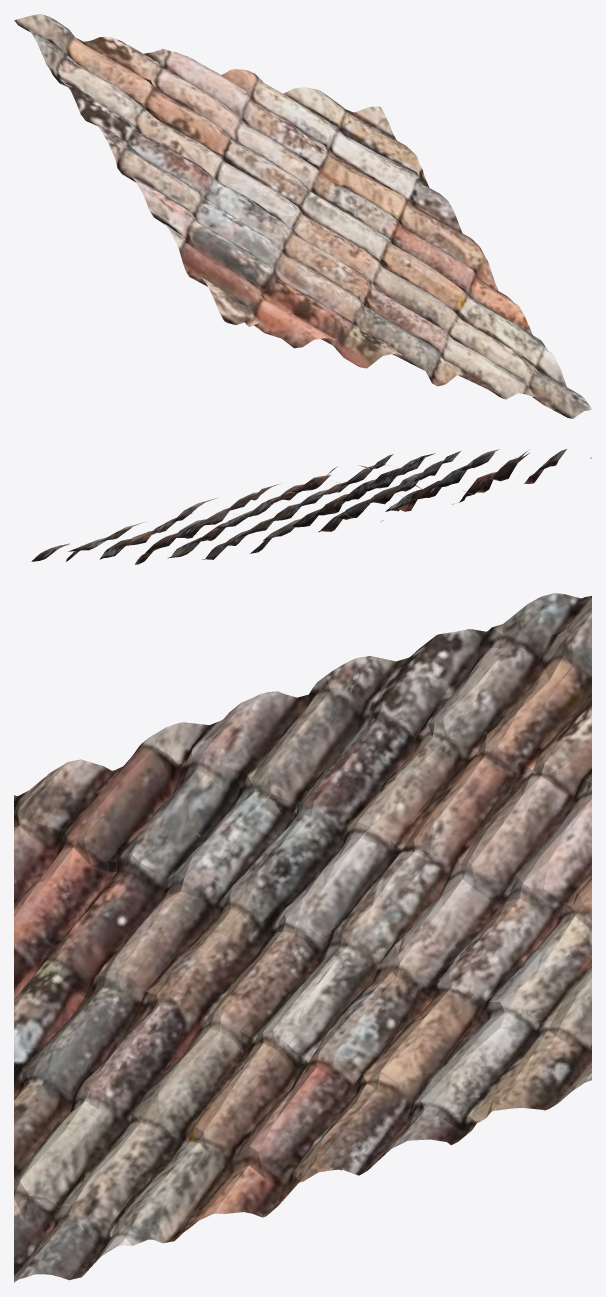
3 views of the same model, one above another, from view 1: azimuth 30°, elevation 25°; view 2: azimuth 150°, elevation 25°; view 3: azimuth 270°, elevation 25° (orthographic). The views are drawn at different scales.
Size of the model in its own units: 1.67 by 1.44 by 1.67.
3 materials, 3 textured.
